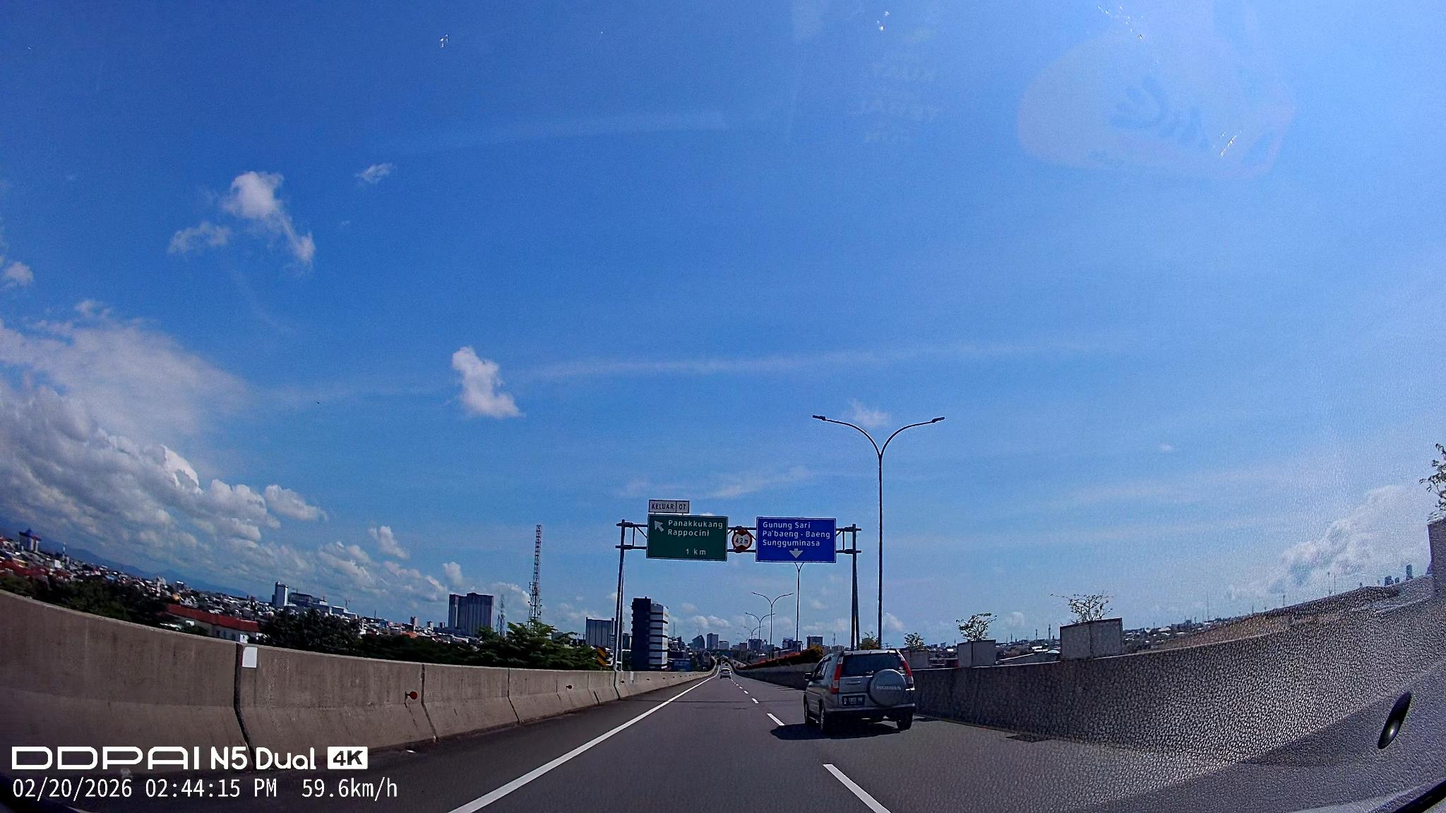rambu_teks: (646, 514, 728, 562), (755, 517, 837, 563)
